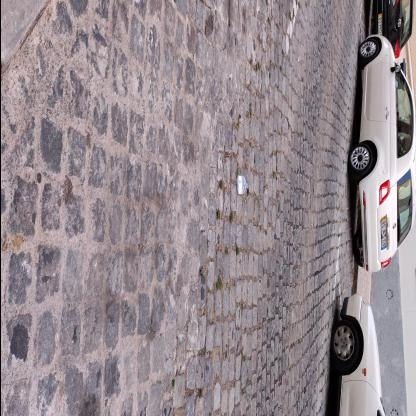plastik: (236, 174, 247, 194), (274, 234, 276, 240)
